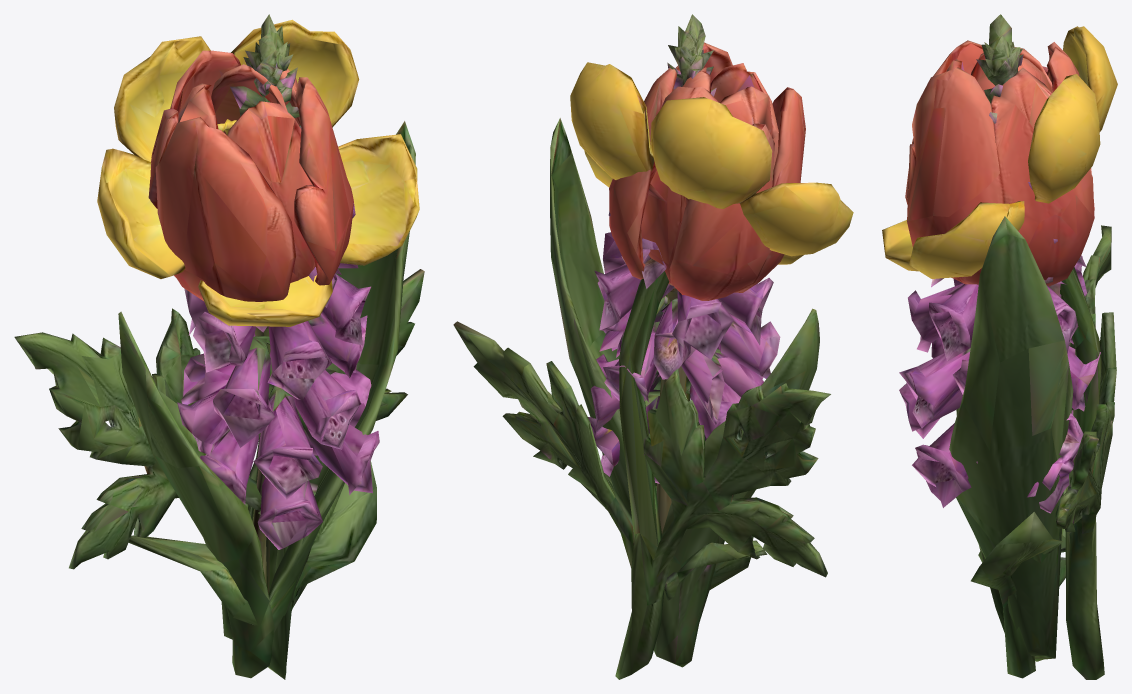
Rendered from cicekler2.glb.
3 renders of one model, left to right at view 1: azimuth 30°, elevation 25°; view 2: azimuth 150°, elevation 25°; view 3: azimuth 270°, elevation 25°, orthographic. The views are drawn at different scales.
Visible parts, largest first — view 1: lale, dugun, yuksuk; view 2: dugun, lale, yuksuk; view 3: lale, dugun, yuksuk.
Boxes of the visible parts, x1,y1,x2,y2 form: lale: (118,50,415,678); dugun: (14,19,424,639); yuksuk: (128,14,379,679); dugun: (453,62,853,679); lale: (550,42,819,667); yuksuk: (581,14,780,600); lale: (905,40,1094,661); dugun: (882,26,1117,679); yuksuk: (899,14,1100,678).
Bounding box in the file's own units: 0.7245 × 1.16 × 0.3811.
1 material, 1 textured.
